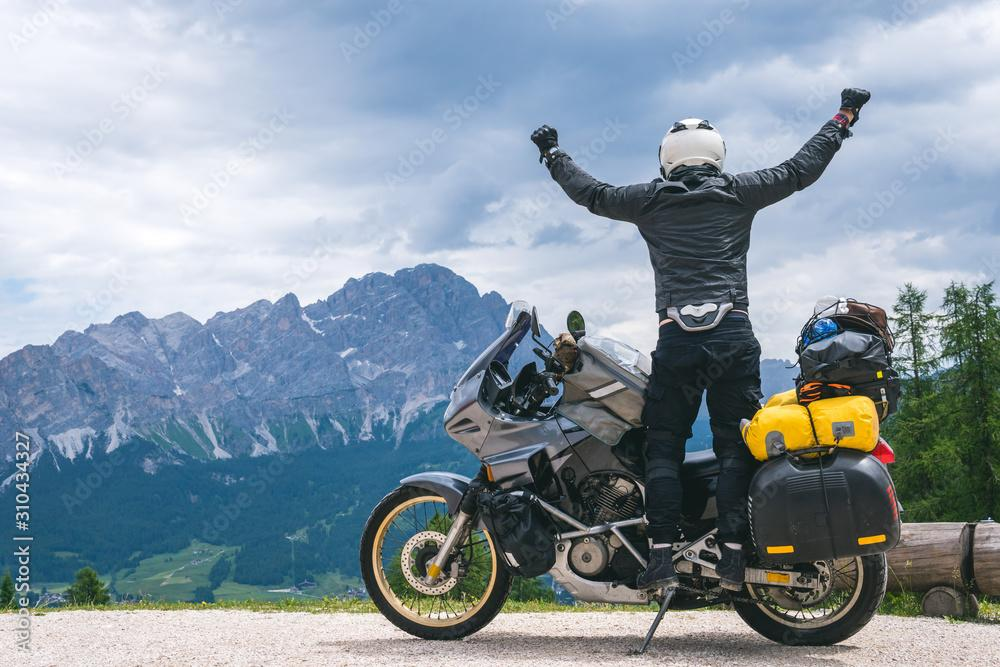helmet: (658, 116, 727, 181)
